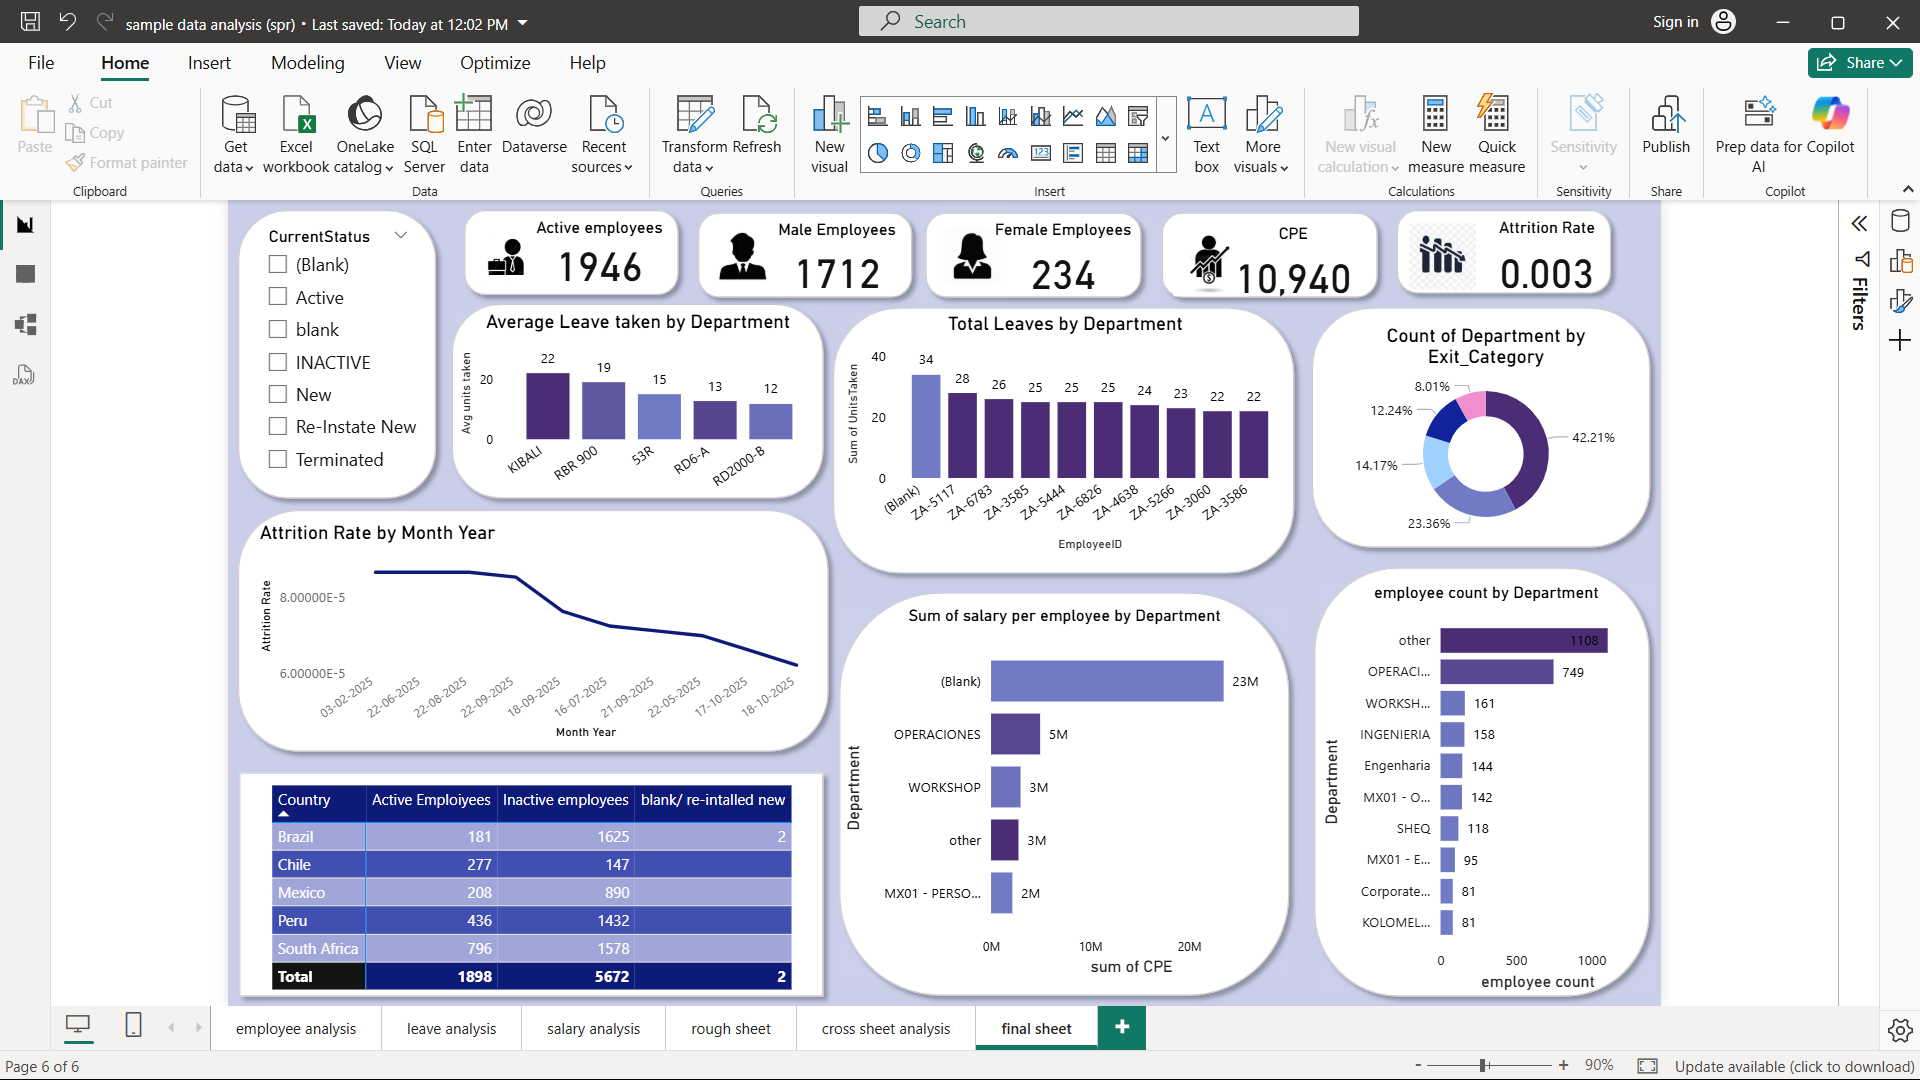

The page's visual inventory and layout, read from the dashboard file:
{"tool":"powerbi","page":{"name":"final sheet","canvas":[1280,720],"ordinal":5},"visuals":[{"type":"shape","box":[0,0,194.8,275.6],"z":0},{"type":"shape","box":[202,0,209.2,93.8],"z":0,"group":"g2"},{"type":"group","id":"g1","title":"Group 5","box":[1035.4,0,209.1,101],"z":0,"group":"g3"},{"type":"shape","box":[1035.4,0,209.2,92.3],"z":0,"group":"g1"},{"type":"shape","box":[411,2.3,209.2,93.8],"z":0,"group":"g5"},{"type":"shape","box":[190.6,83.9,350,191.8],"z":0,"group":"g4"},{"type":"group","id":"g2","title":"Group 3","box":[202,0,209.1,101],"z":1000,"group":"g10"},{"type":"image","box":[216.4,0,63.5,101],"z":1000,"group":"g2"},{"type":"group","id":"g3","title":"Group 4","box":[1035.4,0,209.1,101],"z":1000,"group":"g6"},{"type":"image","box":[1051.3,0,69.3,101],"z":1000,"group":"g1"},{"type":"shape","box":[614.4,2.3,210.6,93.8],"z":1000,"group":"g9"},{"type":"image","box":[425.4,4.8,69.3,90.9],"z":1000,"group":"g5"},{"type":"slicer","fields":{"Values":["Employee Master.CurrentStatus"]},"box":[23.1,18.8,150,236.6],"z":1000},{"type":"columnChart","title":"Average Leave taken by Department","fields":{"Y":["Avg(Leave.UnitsTaken)"],"Category":["Employee Master.Department"]},"box":[201.8,98.1,328.5,170.7],"z":1000,"group":"g4"},{"type":"image","box":[634.6,5.5,62,89.5],"z":2000,"group":"g9"},{"type":"shape","box":[0,268.4,545.4,233.7],"z":2000},{"type":"shape","box":[824.9,2.3,210.6,93.8],"z":3000,"group":"g8"},{"type":"card","title":"Active employees","fields":{"Values":["Employee Master.Active Emploiyees"]},"box":[264.2,15.6,134.2,64.7],"z":3000,"group":"g10"},{"type":"card","title":"Cost Per Employee","fields":{"Values":["Employee Master.CPE"]},"box":[665.6,150.8,133.7,62.6],"z":3000},{"type":"lineChart","fields":{"Y":["Employee Master.Attrition Rate"],"Category":["Employee Master.Month Year.Variation.Date Hierarchy.Month"]},"box":[23.1,287.1,506.4,199.1],"z":4000},{"type":"card","title":"Female Employees","fields":{"Values":["Employee Master.Active Emploiyees"]},"box":[655,17.9,183.5,75.4],"z":5000,"group":"g9"},{"type":"shape","box":[532,86.6,429.9,255.4],"z":5000},{"type":"image","box":[839.3,4.8,76.5,90.9],"z":6000,"group":"g8"},{"type":"columnChart","title":"Total Leaves by Department","fields":{"Category":["Employee Master.EmployeeID"],"Y":["Sum(Leave.UnitsTaken)"]},"box":[547.9,101,399.6,217.9],"z":6000},{"type":"shape","box":[537.1,341.9,419.8,378],"z":7000},{"type":"clusteredBarChart","fields":{"Category":["Employee Master.Department"],"Y":["Sum(Salary.salary per employee)"]},"box":[546.4,363.1,402.7,335.6],"z":8000},{"type":"shape","box":[1.4,502.1,539.6,217.9],"z":9000},{"type":"pivotTable","fields":{"Rows":["Employee Master.Country"],"Values":["Employee Master.Active Emploiyees","Employee Master.Inactive employees","Employee Master.blank/ re-intalled new"]},"box":[34.6,518,474.7,202],"z":10000},{"type":"shape","box":[958.7,86.6,320.3,232.3],"z":11000},{"type":"donutChart","fields":{"Category":["Employee Master.Exit_Category"],"Y":["CountNonNull(Salary.Department)"]},"box":[978.2,111.1,291.4,194.8],"z":12000},{"type":"shape","box":[960.9,318.9,317.4,401.1],"z":13000},{"type":"barChart","fields":{"Category":["Employee Master.Department"],"Y":["Salary.employee count"]},"box":[972.4,341.9,303,369.3],"z":14000},{"type":"group","id":"g4","title":"Group 6","box":[190.6,83.9,349.9,192],"z":15000},{"type":"group","id":"g5","title":"Group 1","box":[411,2.3,223.3,93.9],"z":16000},{"type":"group","id":"g6","title":"Group 2","box":[1035.4,0,209.1,101],"z":17000},{"type":"group","id":"g7","title":"Group 7","box":[202,0,209.1,101],"z":18000},{"type":"group","id":"g8","title":"Group 9","box":[824.9,2.3,210.5,93.9],"z":19000},{"type":"group","id":"g9","title":"Group 10","box":[614.4,2.3,224.7,93.9],"z":20000},{"type":"card","title":"Attrition Rate","fields":{"Values":["Employee Master.Attrition Rate"]},"box":[1112.8,15.6,132.3,76.8],"z":22000,"group":"g6"},{"type":"card","title":"Male Employees","fields":{"Values":["Employee Master.Active Emploiyees"]},"box":[454.9,17.9,179.2,74],"z":22000,"group":"g5"},{"type":"card","title":"CPE","fields":{"Values":["Employee Master.CPE"]},"box":[893.2,20.8,116.6,75.4],"z":22000,"group":"g8"},{"type":"group","id":"g10","title":"Group 8","box":[202,0,209.1,101],"z":25001,"group":"g7"}]}

Visuals, with their boxes on the page's 1280x720 design canvas (x1, y1, x2, y2). These are canvas units, not pixel positions in the 1920x1080 screenshot, which may show the page scaled, cropped or inside an application window:
shape: [0,0,195,276]
shape: [202,0,411,94]
"Group 5" group: [1035,0,1244,101]
shape: [1035,0,1245,92]
shape: [411,2,620,96]
shape: [191,84,541,276]
"Group 3" group: [202,0,411,101]
image: [216,0,280,101]
"Group 4" group: [1035,0,1244,101]
image: [1051,0,1121,101]
shape: [614,2,825,96]
image: [425,5,495,96]
slicer - Employee Master.CurrentStatus: [23,19,173,255]
"Average Leave taken by Department" columnChart: [202,98,530,269]
image: [635,6,697,95]
shape: [0,268,545,502]
shape: [825,2,1036,96]
"Active employees" card: [264,16,398,80]
"Cost Per Employee" card: [666,151,799,213]
lineChart - Employee Master.Attrition Rate x Employee Master.Month Year.Variation.Date Hierarchy.Month: [23,287,530,486]
"Female Employees" card: [655,18,838,93]
shape: [532,87,962,342]
image: [839,5,916,96]
"Total Leaves by Department" columnChart: [548,101,948,319]
shape: [537,342,957,720]
clusteredBarChart - Employee Master.Department x Sum(Salary.salary per employee): [546,363,949,699]
shape: [1,502,541,720]
pivotTable - Employee Master.Country x Employee Master.Active Emploiyees: [35,518,509,720]
shape: [959,87,1279,319]
donutChart - Employee Master.Exit_Category x CountNonNull(Salary.Department): [978,111,1270,306]
shape: [961,319,1278,720]
barChart - Employee Master.Department x Salary.employee count: [972,342,1275,711]
"Group 6" group: [191,84,540,276]
"Group 1" group: [411,2,634,96]
"Group 2" group: [1035,0,1244,101]
"Group 7" group: [202,0,411,101]
"Group 9" group: [825,2,1035,96]
"Group 10" group: [614,2,839,96]
"Attrition Rate" card: [1113,16,1245,92]
"Male Employees" card: [455,18,634,92]
"CPE" card: [893,21,1010,96]
"Group 8" group: [202,0,411,101]
